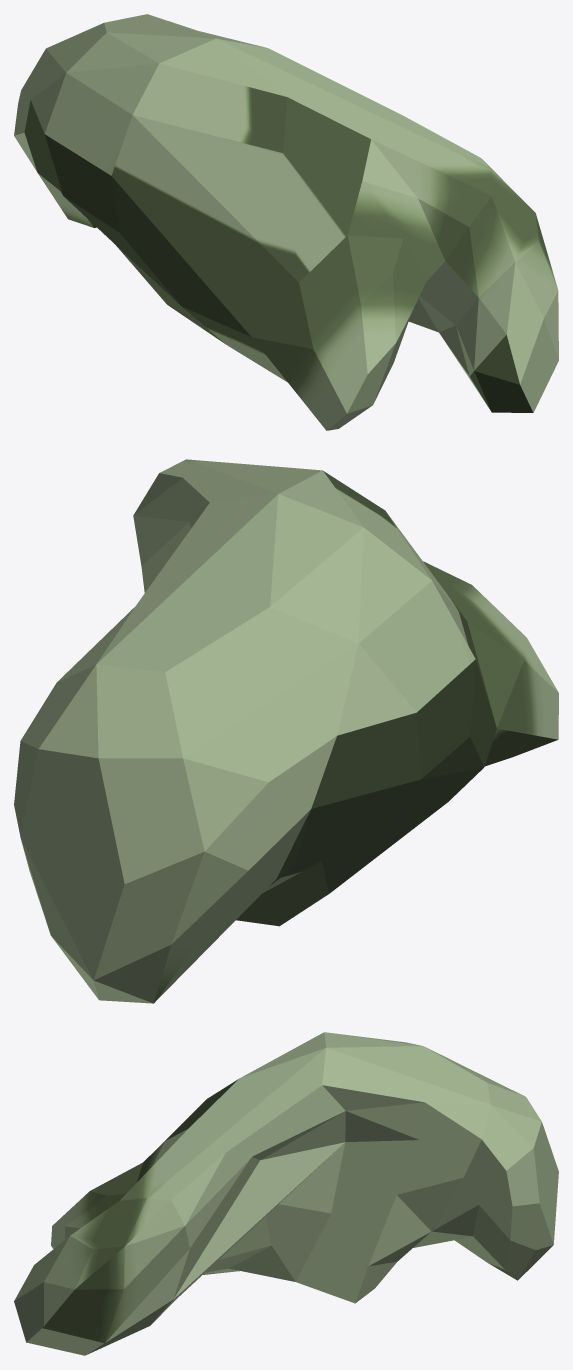
File: EA_Swamp_Moss_01b.glb
The picture shows the model from 3 angles, top to bottom: view 1: azimuth 30°, elevation 25°; view 2: azimuth 150°, elevation 25°; view 3: azimuth 270°, elevation 25°; orthographic projection. The views are drawn at different scales.
Parts seen in each view (by area): view 1: EA_Swamp_Moss_01b; view 2: EA_Swamp_Moss_01b; view 3: EA_Swamp_Moss_01b.
Part boxes in pixels (left/top/right/bottom): EA_Swamp_Moss_01b: left=14, top=14, right=558, bottom=430; EA_Swamp_Moss_01b: left=14, top=459, right=558, bottom=1003; EA_Swamp_Moss_01b: left=14, top=1032, right=558, bottom=1355.
Size of the model in its own units: 1.41 by 1.14 by 2.31.
1 material, 1 textured.
